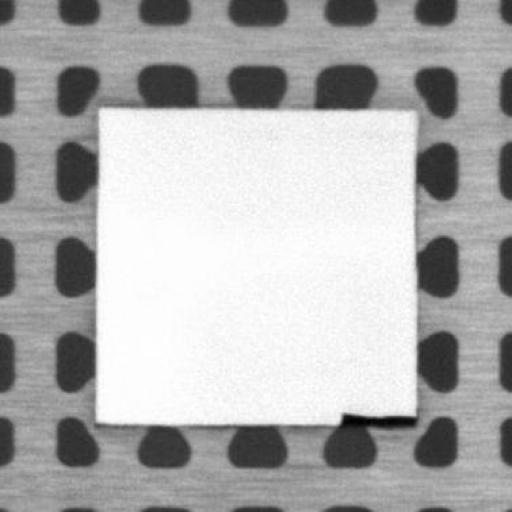DIE_BROKEN: (335, 408, 417, 428)
